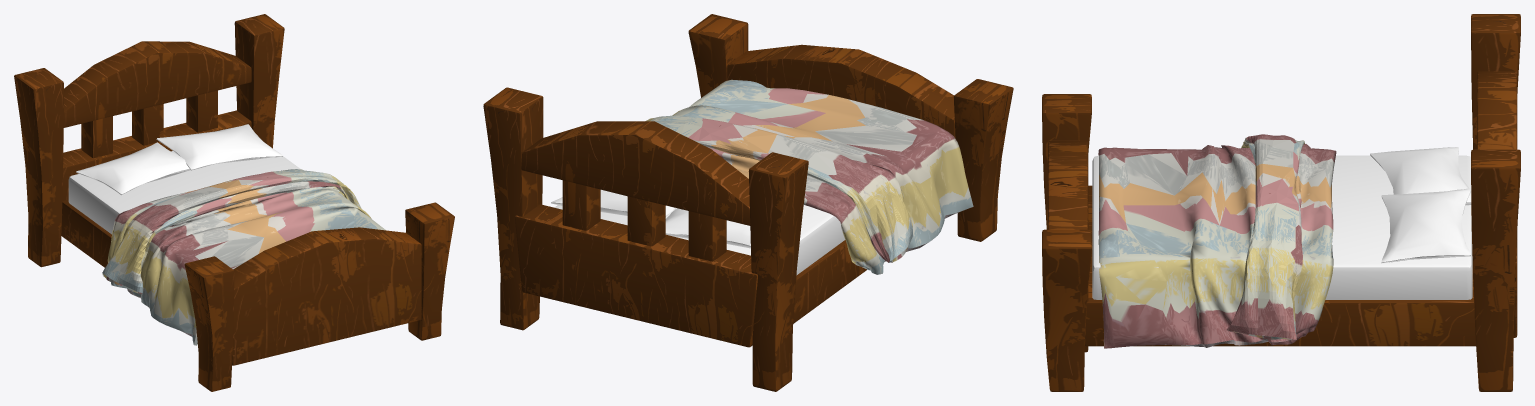
File: Bed_bedroom.fbx
3 views of the same model, side by side, from view 1: azimuth 30°, elevation 25°; view 2: azimuth 150°, elevation 25°; view 3: azimuth 270°, elevation 25° (orthographic). The views are drawn at different scales.
Parts seen in each view (by area): view 1: BedFrame, Cover_1, Mattress, Pillow_R, PillowL; view 2: BedFrame, Cover_1, Mattress, PillowL, Pillow_R; view 3: Cover_1, BedFrame, Mattress, Pillow_R, PillowL.
Part boxes in pixels (x1,y1,x2,y2): BedFrame: (14,14,454,391); Cover_1: (102,169,385,345); Mattress: (68,151,300,234); Pillow_R: (156,124,282,170); PillowL: (76,142,190,195); BedFrame: (483,14,1013,391); Cover_1: (645,79,973,274); Mattress: (555,205,845,275); PillowL: (665,208,750,248); Pillow_R: (551,189,676,216); Cover_1: (1098,134,1336,348); BedFrame: (1042,14,1520,391); Mattress: (1092,155,1472,299); Pillow_R: (1381,188,1470,263); PillowL: (1370,147,1471,205).
Bounding box in the file's own units: 111 × 78.1 × 143.
3 materials, 2 textured.
